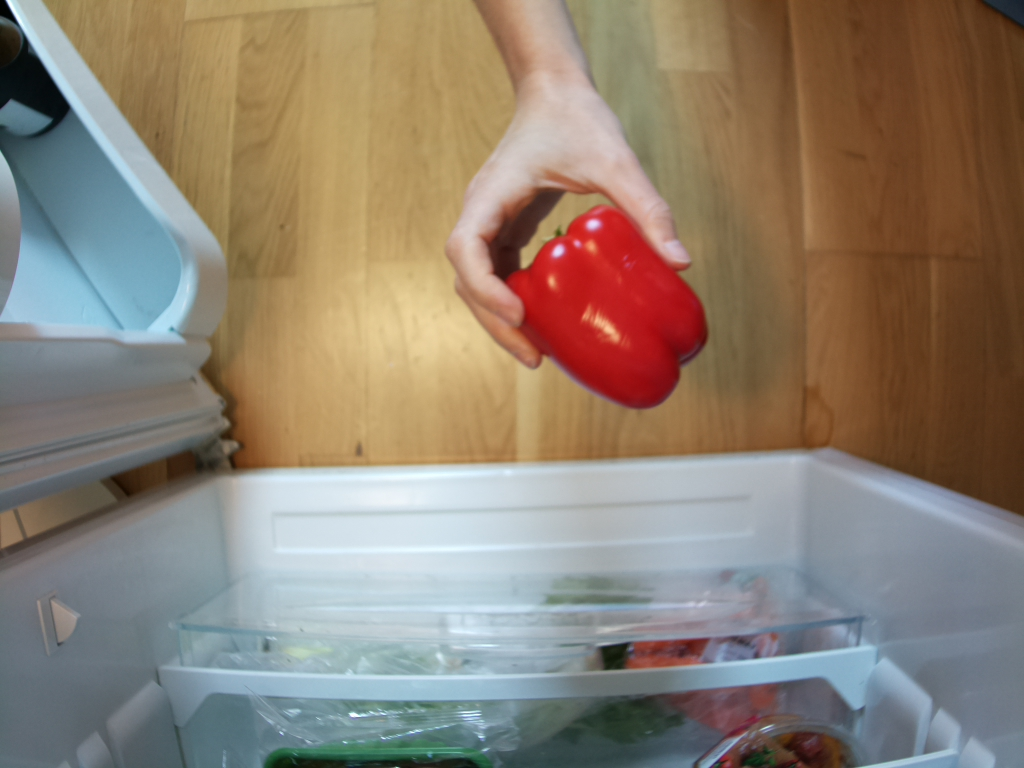pepper: (505, 202, 711, 411)
